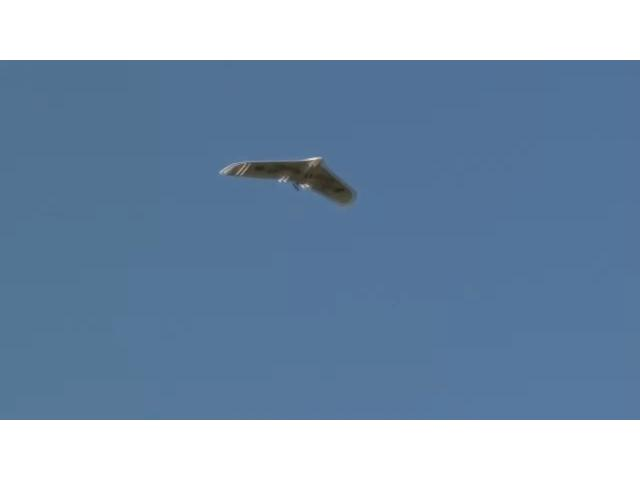Anti-Drone: (220, 158, 352, 202)
